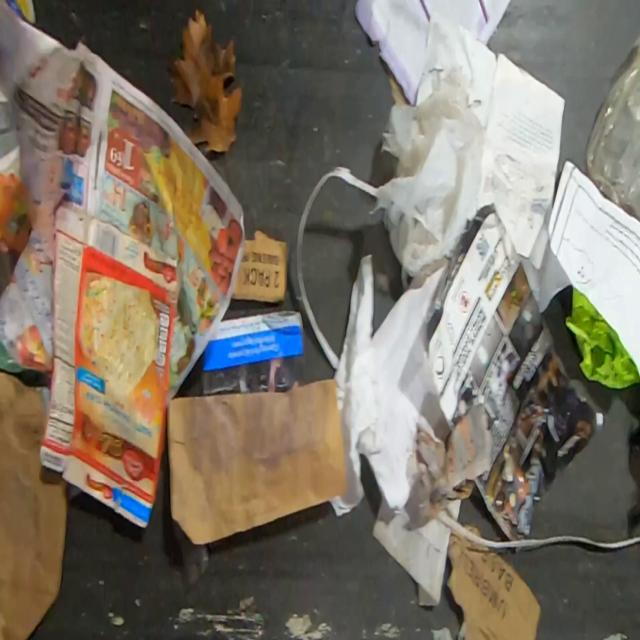cardboard: (37, 198, 182, 530), (165, 378, 349, 546), (0, 371, 69, 639), (446, 530, 543, 640), (231, 228, 288, 304)
soft_plastic: (368, 65, 484, 277), (585, 36, 640, 223)
